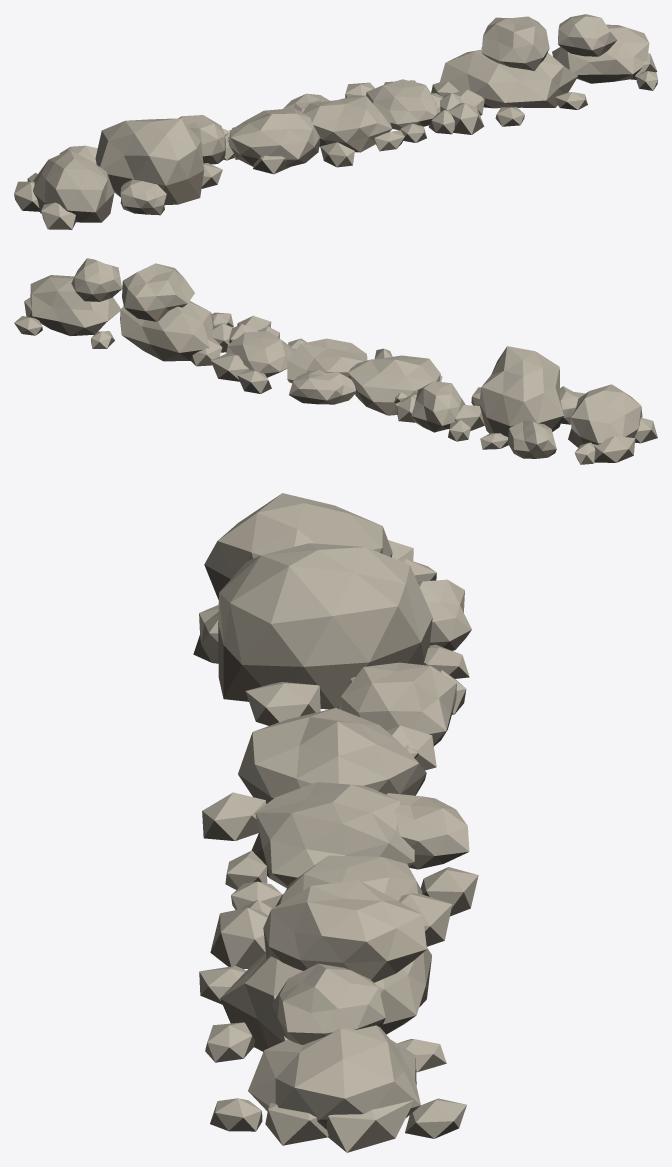
File: stone_hazard_three_lane_B.glb
The picture shows the model from 3 angles, top to bottom: view 1: azimuth 30°, elevation 25°; view 2: azimuth 150°, elevation 25°; view 3: azimuth 270°, elevation 25°; orthographic projection. The views are drawn at different scales.
Visible parts, largest first — view 1: stone_hazard_three_lane_B; view 2: stone_hazard_three_lane_B; view 3: stone_hazard_three_lane_B.
Boxes of the visible parts, box(x1,y1,x2,y2) form: stone_hazard_three_lane_B: box(14, 14, 657, 229); stone_hazard_three_lane_B: box(14, 258, 657, 464); stone_hazard_three_lane_B: box(193, 493, 478, 1152).
Bounding box in the file's own units: 7.25 × 0.762 × 1.47.
